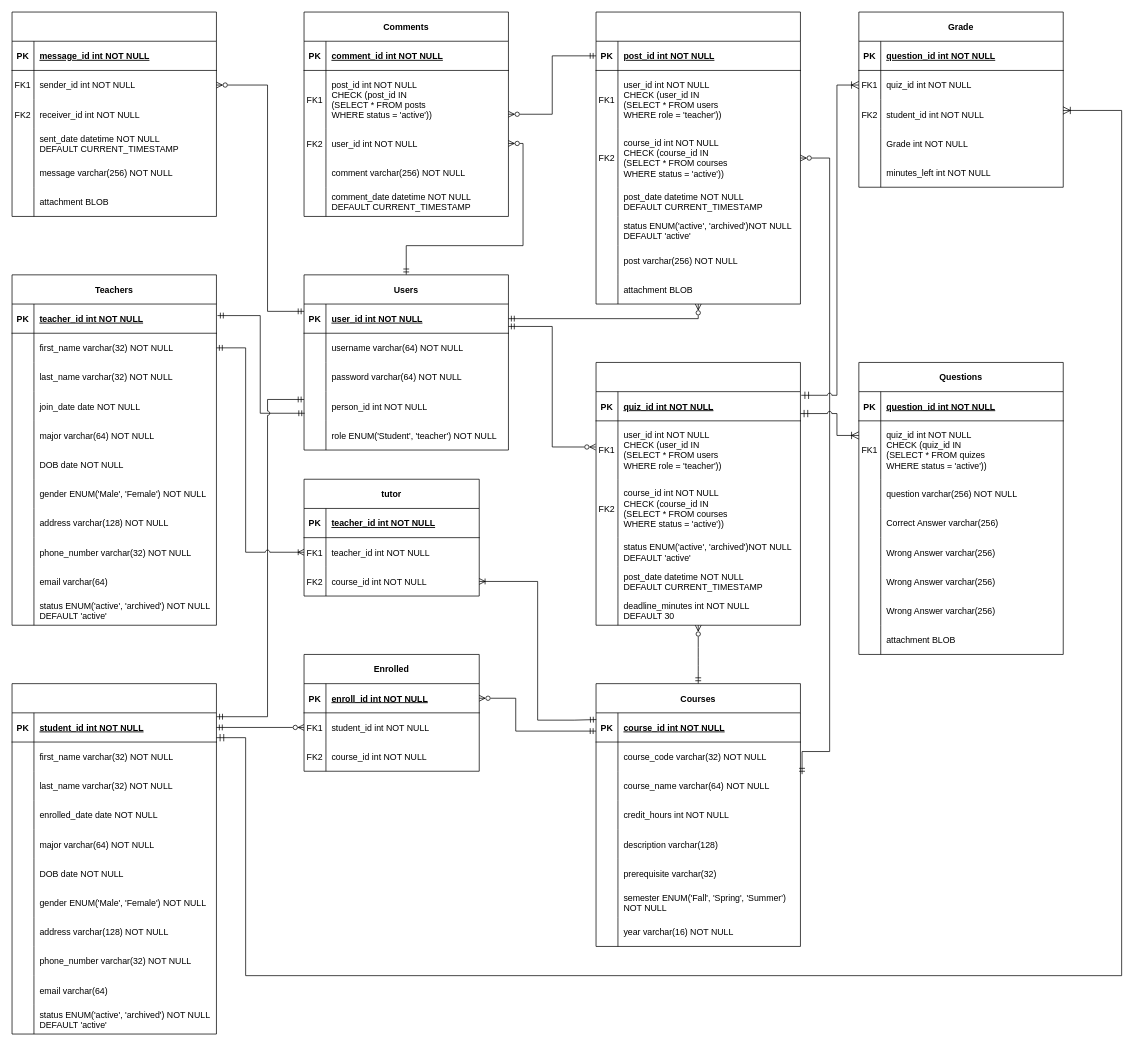
Some shapes in this 1134 by 1046 pixel diagram are drawn without their labels. The shapes that lost their labels are listed below. From the top down, each one's box as (x1, y1, x2, y2) in pixels, then its label:
(11, 11, 216, 216): Messages
(595, 11, 800, 304): Posts
(595, 362, 800, 625): Quizes
(11, 683, 216, 1034): Students
